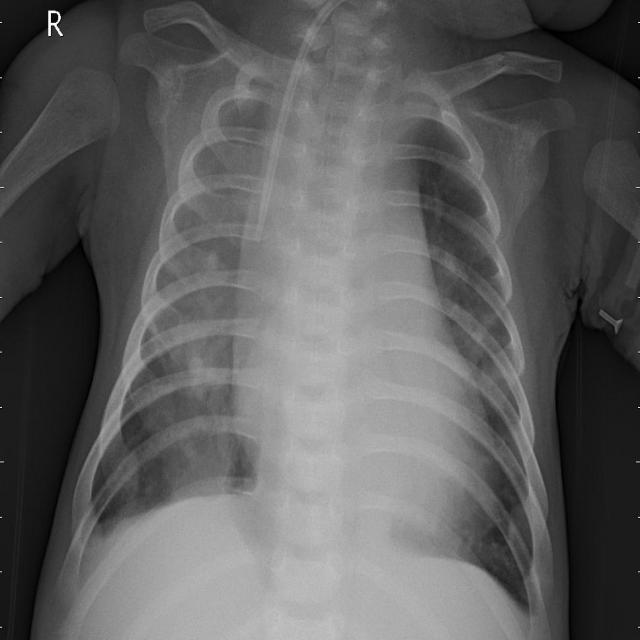viral_pneumonia: (1, 2, 640, 640)
